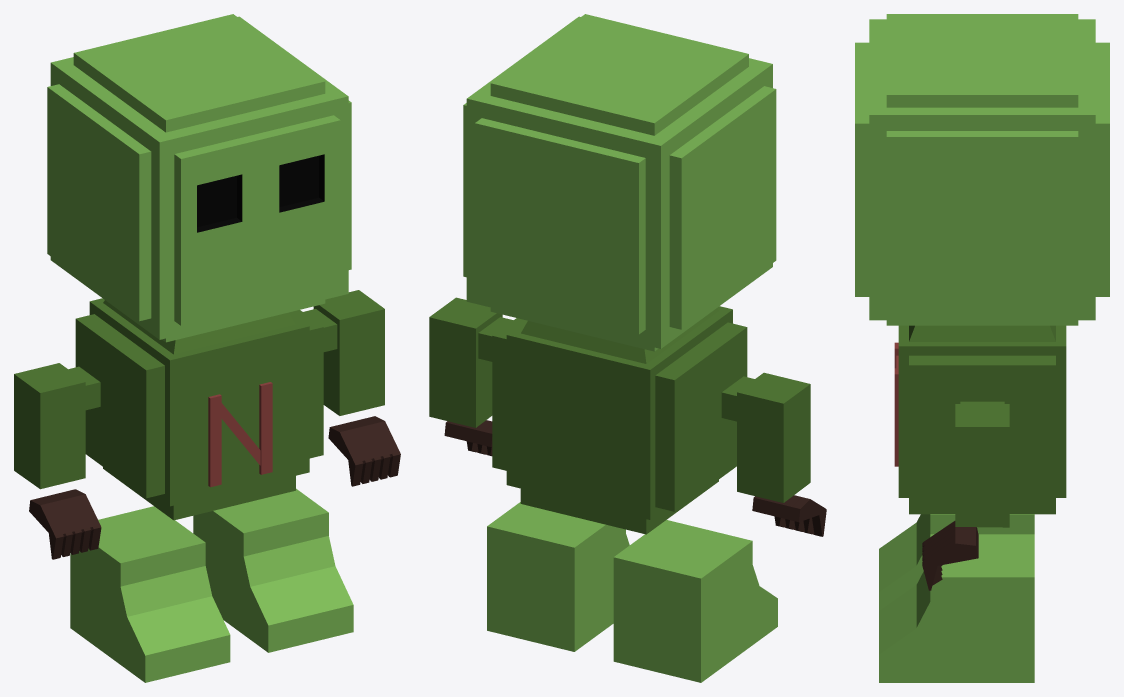
Rendered from nomalZombie.fbx.
3 views of the same model, side by side, from view 1: azimuth 30°, elevation 25°; view 2: azimuth 150°, elevation 25°; view 3: azimuth 270°, elevation 25° (orthographic). The views are drawn at different scales.
Visible parts, largest first — view 1: Cube.057, Cube.059, Cube.058, Cube.062, Cube.060, Cube.063, Cube.064, Cube.061, Cube.066; view 2: Cube.057, Cube.059, Cube.058, Cube.062, Cube.060, Cube.063, Cube.061, Cube.064; view 3: Cube.057, Cube.059, Cube.062, Cube.063, Cube.058, Cube.064, Cube.066.
Boxes of the visible parts, bbox=[...] form: Cube.057: bbox=[47, 14, 351, 342]; Cube.059: bbox=[75, 298, 323, 520]; Cube.058: bbox=[70, 506, 230, 682]; Cube.062: bbox=[193, 488, 353, 652]; Cube.060: bbox=[14, 363, 100, 489]; Cube.063: bbox=[303, 290, 384, 415]; Cube.064: bbox=[328, 416, 400, 486]; Cube.061: bbox=[29, 489, 101, 559]; Cube.066: bbox=[208, 382, 272, 487]; Cube.057: bbox=[463, 14, 776, 351]; Cube.059: bbox=[492, 306, 747, 534]; Cube.058: bbox=[613, 520, 777, 682]; Cube.062: bbox=[487, 502, 629, 651]; Cube.060: bbox=[721, 372, 810, 502]; Cube.063: bbox=[429, 297, 513, 427]; Cube.061: bbox=[752, 495, 826, 536]; Cube.064: bbox=[444, 420, 492, 456]; Cube.057: bbox=[855, 14, 1109, 325]; Cube.059: bbox=[898, 325, 1066, 514]; Cube.062: bbox=[879, 534, 1034, 682]; Cube.063: bbox=[955, 401, 1009, 527]; Cube.058: bbox=[879, 514, 1034, 610]; Cube.064: bbox=[922, 521, 978, 590]; Cube.066: bbox=[894, 342, 898, 466].
Size of the model in its own units: 365 by 561 by 225.
